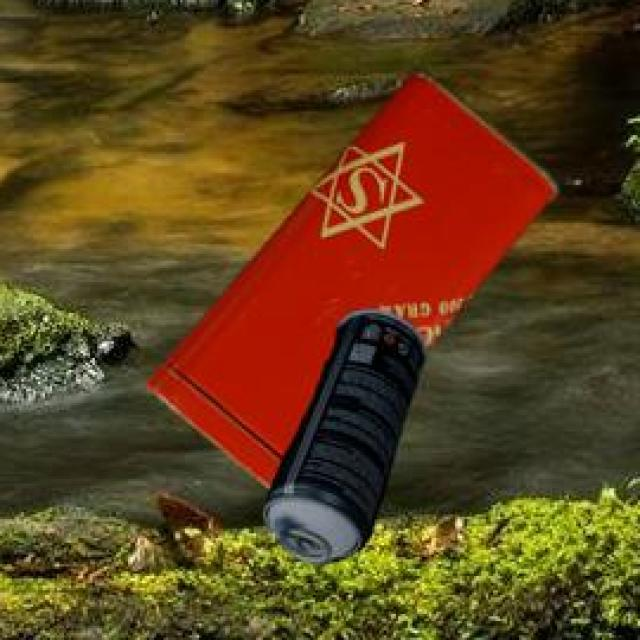logam: (143, 65, 556, 485), (260, 307, 421, 561)
